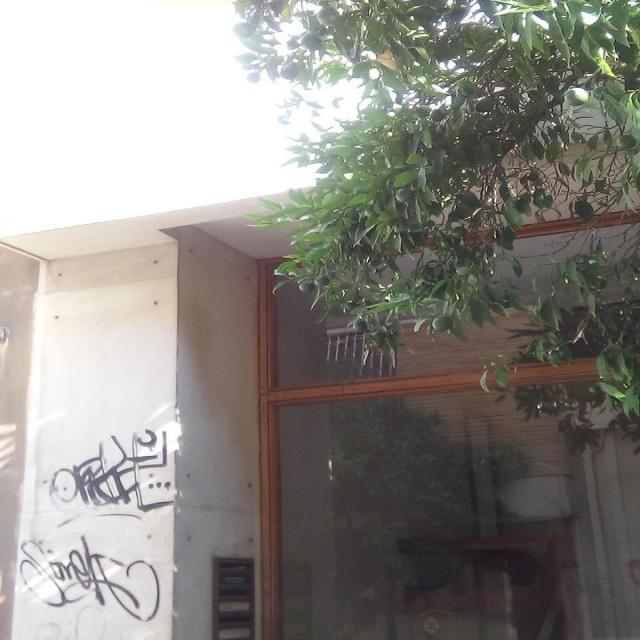nonspitting: (20, 534, 162, 622), (48, 430, 172, 527)
